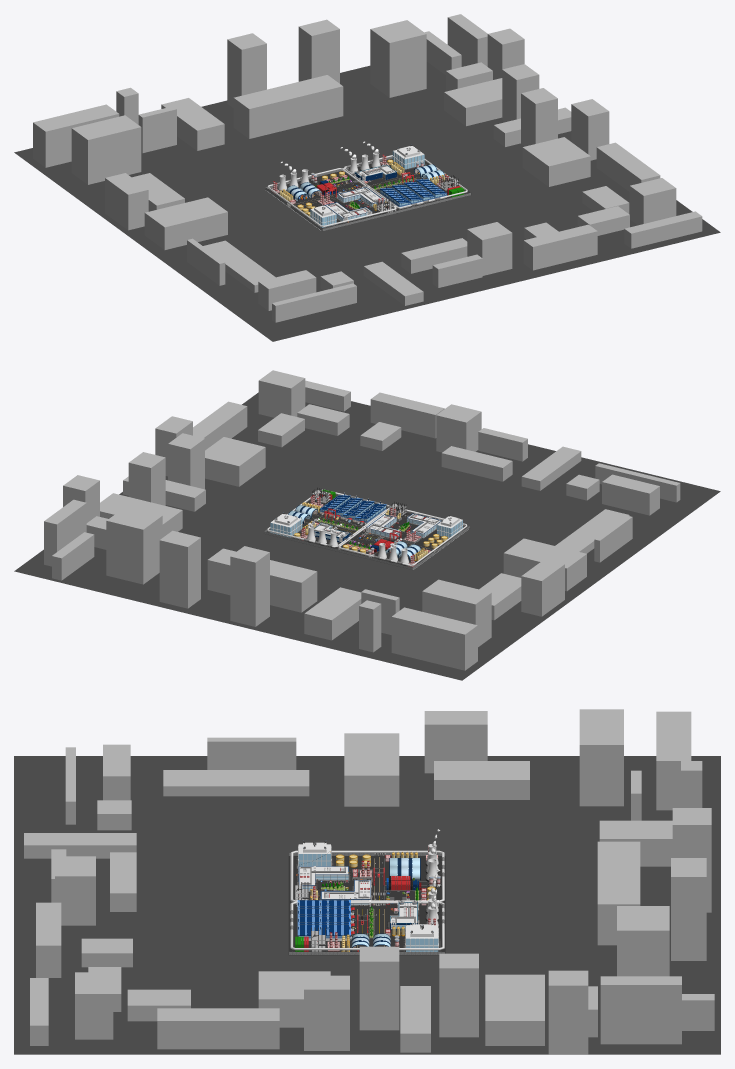
The model's file is env-fabrik.glb.
3 renders of one model, top to bottom at view 1: azimuth 30°, elevation 25°; view 2: azimuth 150°, elevation 25°; view 3: azimuth 270°, elevation 25°, orthographic. The views are drawn at different scales.
Parts seen in each view (by area): view 1: background, env_industry_main, pipe2, Cube.093, building_office; view 2: background, env_industry_main, pipe2, Cube.093, building_office, building_office.002; view 3: background, env_industry_main, pipe2, building_office.002, Cube.093, Cube.095, building_office, buidling_production_large.003, building_production, machine hall 1.
Part boxes in pixels (bbox=[...]): background: bbox=[14, 14, 720, 341]; env_industry_main: bbox=[265, 156, 471, 231]; pipe2: bbox=[267, 155, 467, 227]; Cube.093: bbox=[392, 144, 426, 170]; building_office: bbox=[336, 185, 384, 207]; background: bbox=[14, 370, 720, 680]; env_industry_main: bbox=[264, 494, 469, 569]; pipe2: bbox=[267, 489, 467, 566]; Cube.093: bbox=[269, 512, 302, 537]; building_office: bbox=[365, 514, 402, 539]; building_office.002: bbox=[405, 512, 441, 538]; background: bbox=[14, 709, 720, 1054]; env_industry_main: bbox=[288, 853, 445, 955]; pipe2: bbox=[290, 850, 444, 950]; building_office.002: bbox=[296, 864, 350, 892]; Cube.093: bbox=[403, 922, 440, 951]; Cube.095: bbox=[296, 841, 333, 868]; building_office: bbox=[319, 878, 372, 905]; buidling_production_large.003: bbox=[297, 922, 354, 940]; building_production: bbox=[387, 900, 419, 930]; machine hall 1: bbox=[389, 858, 420, 880].
Bounding box in the file's own units: 910 × 128 × 910.
9 materials, 8 textured.
